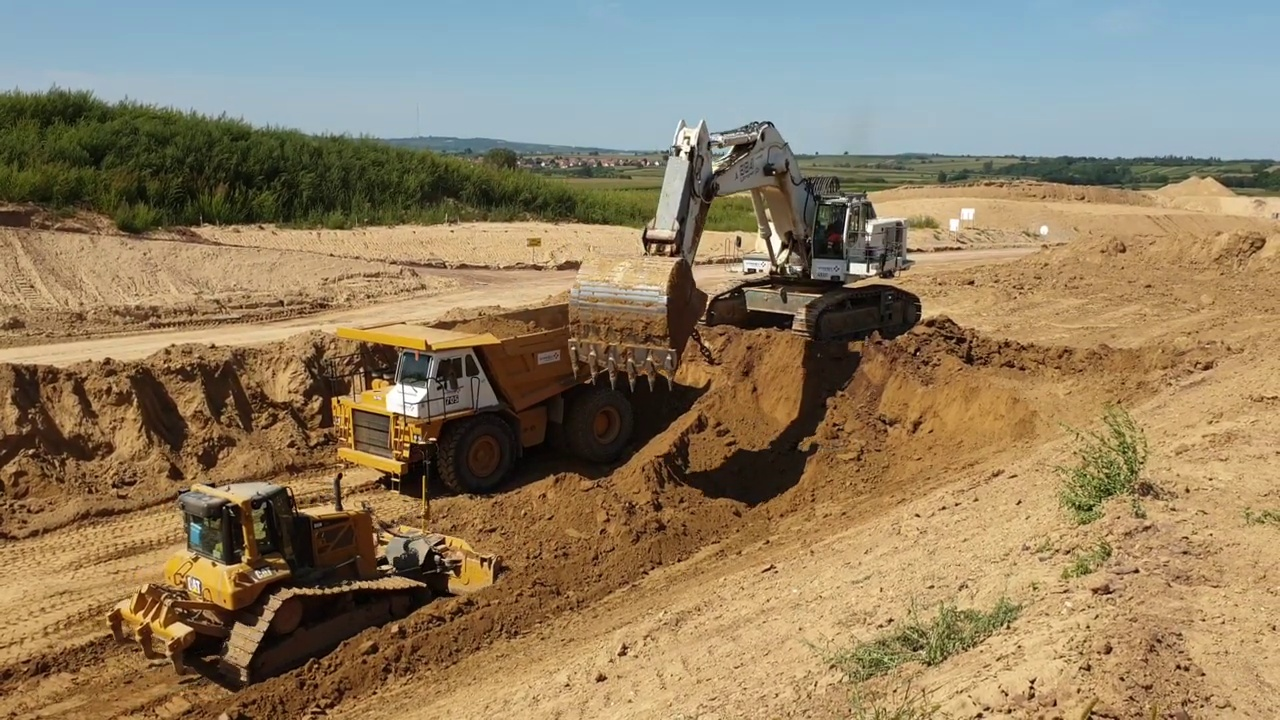bulldozer: (109, 424, 505, 686)
excavator: (564, 112, 925, 388)
truck: (326, 290, 697, 500)
